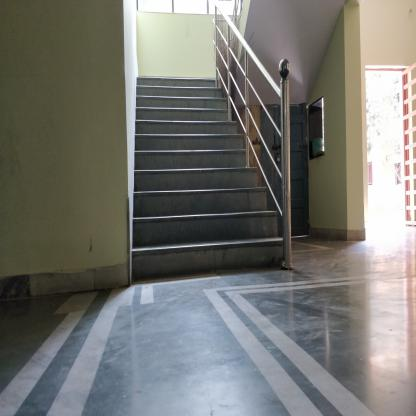stairs: (139, 75, 215, 287)
